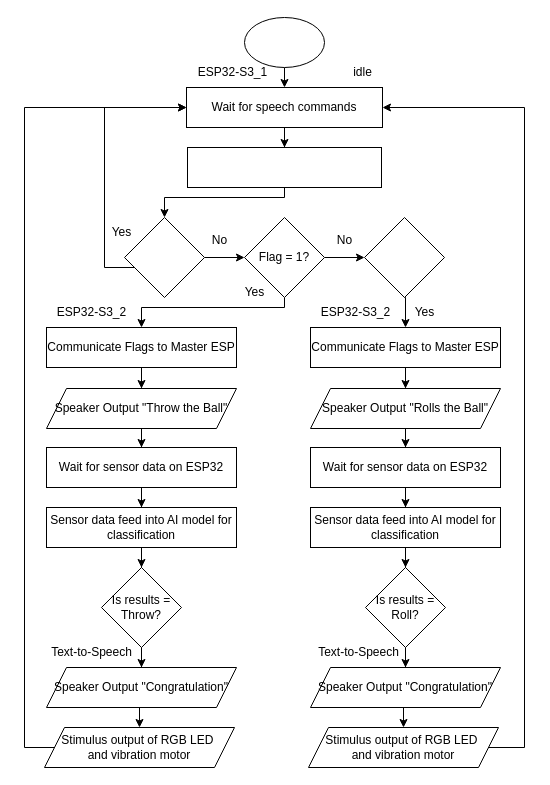
The diagram is 550 pixels wide and 785 high, and some of its shapes have lost their labels. The shapes that lost their labels are listed below. From the top down, each one's centre as x and y in pixels, then its label:
At pixel 284 42: "Start".
At pixel 284 167: "Set flag based on Speech Command".
At pixel 164 257: "Flag = 0?".
At pixel 404 257: "Flag = 2?".
